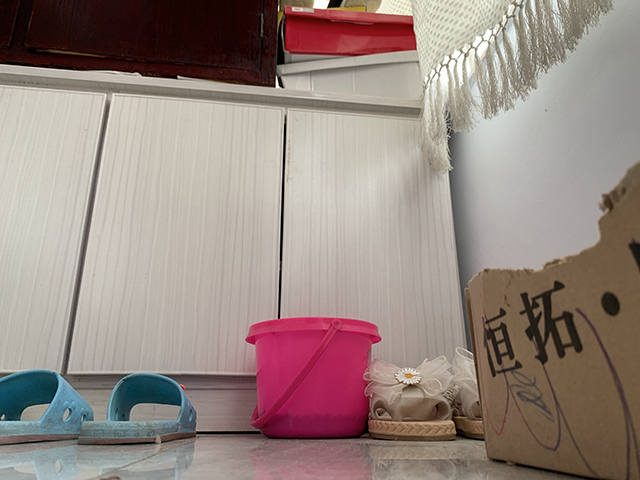cabinet: (1, 63, 474, 435)
slippers: (81, 373, 199, 445), (1, 367, 96, 446)
